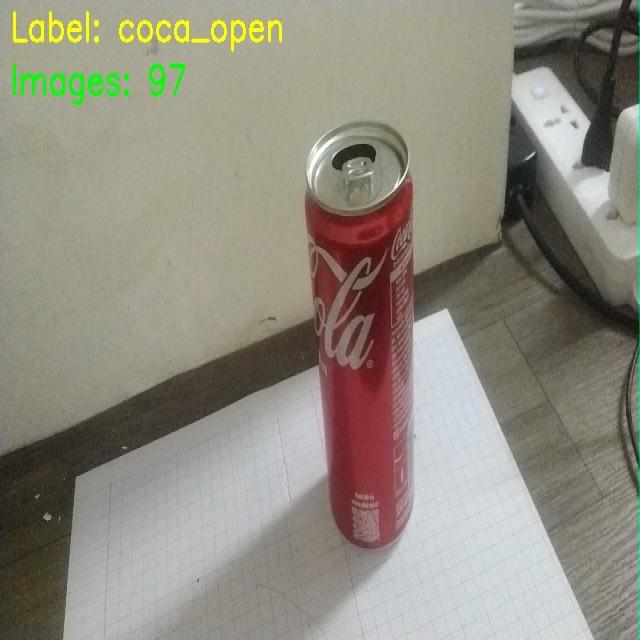Coca_open: (295, 104, 453, 553)
